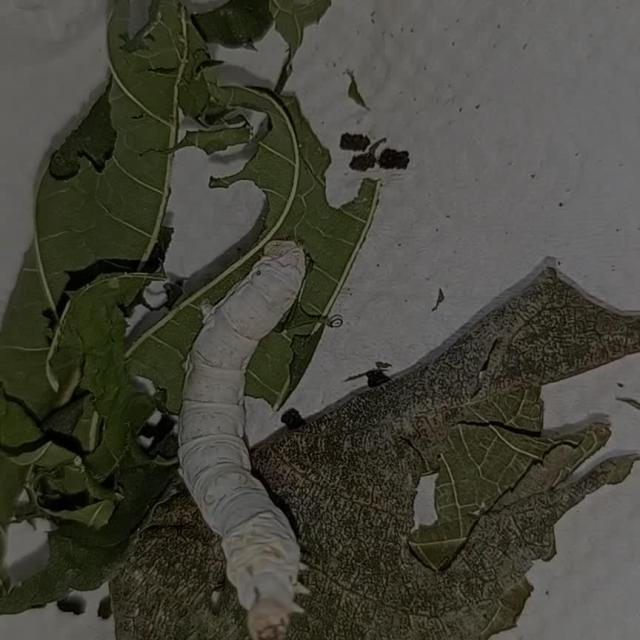Healthy: (148, 212, 347, 640)
